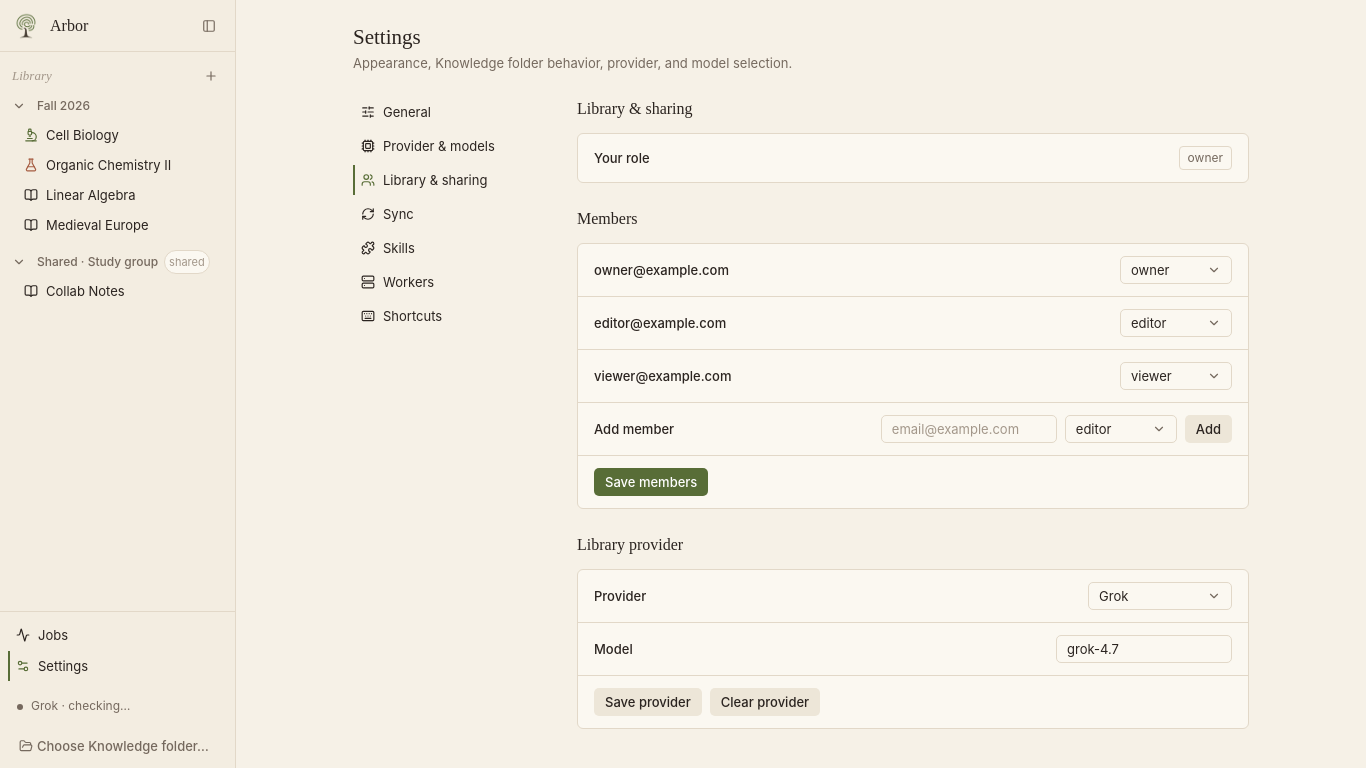
Test: settings sharing (14b) › rejects invalid member email
Type "not-an-email" into the field named "Member email".
click(969, 429); type("not-an-email")  # box [881,415,1057,443]
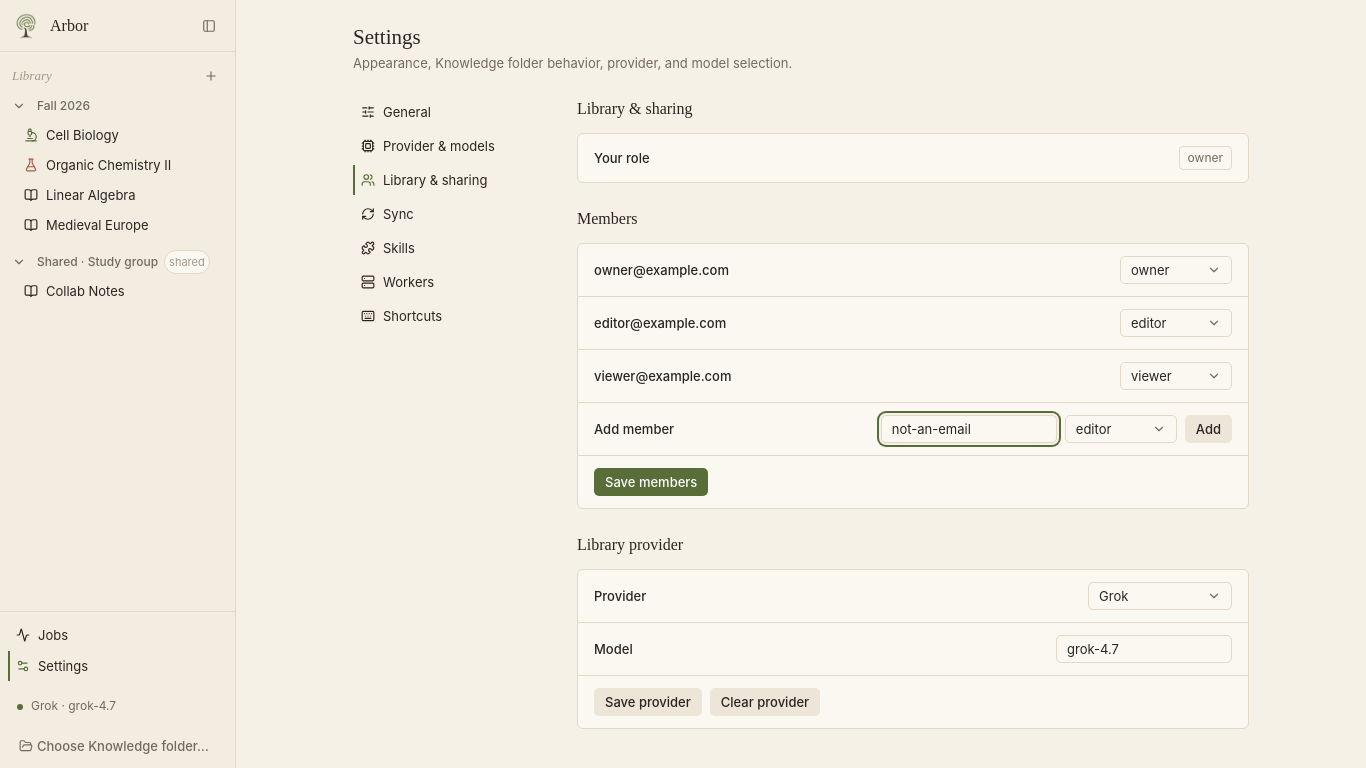
Click the button "Add".
click(1208, 429)  # box [1185,415,1232,443]
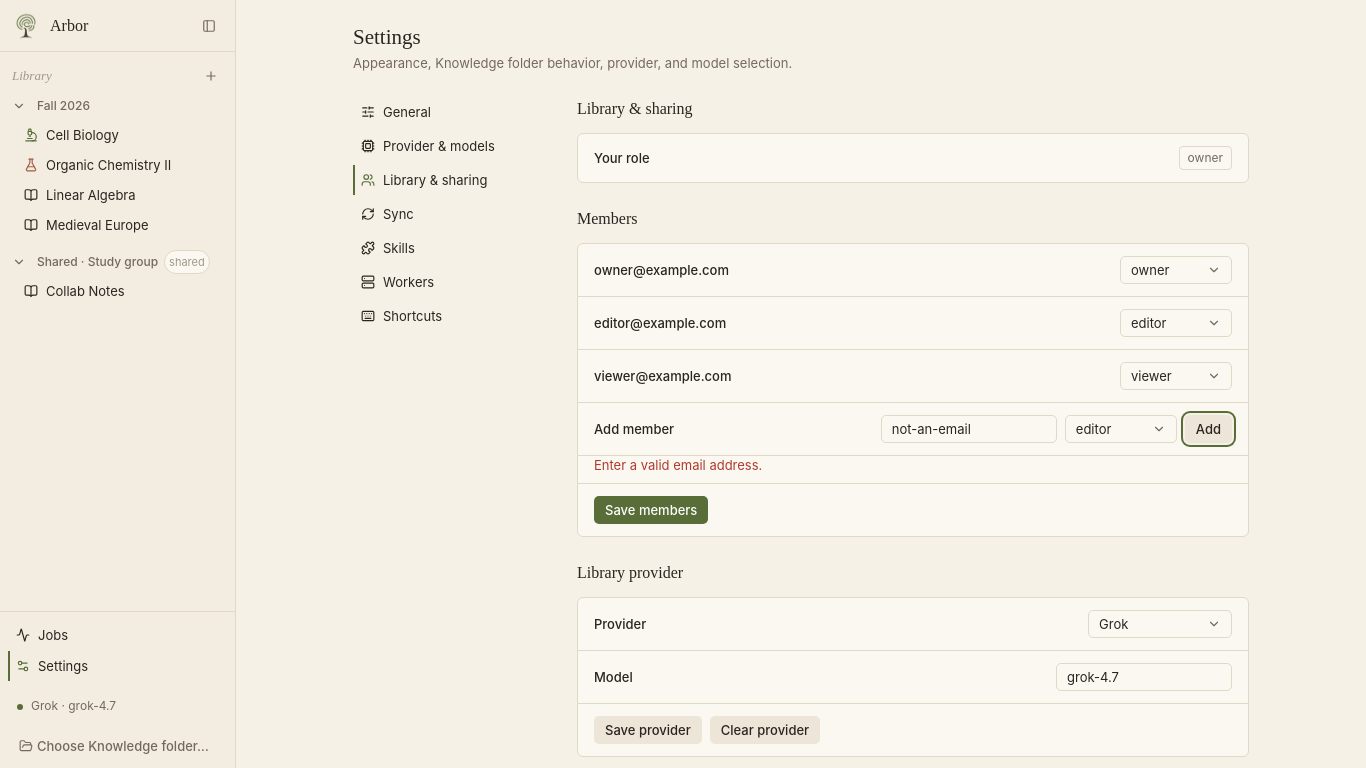
Check: the text "Enter a valid email address." is shown, box [578,456,1248,484]
